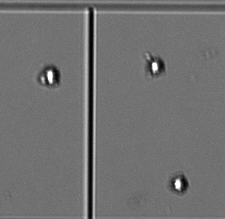Living Cell: (37, 64, 63, 88), (167, 172, 192, 195), (144, 56, 167, 78)
